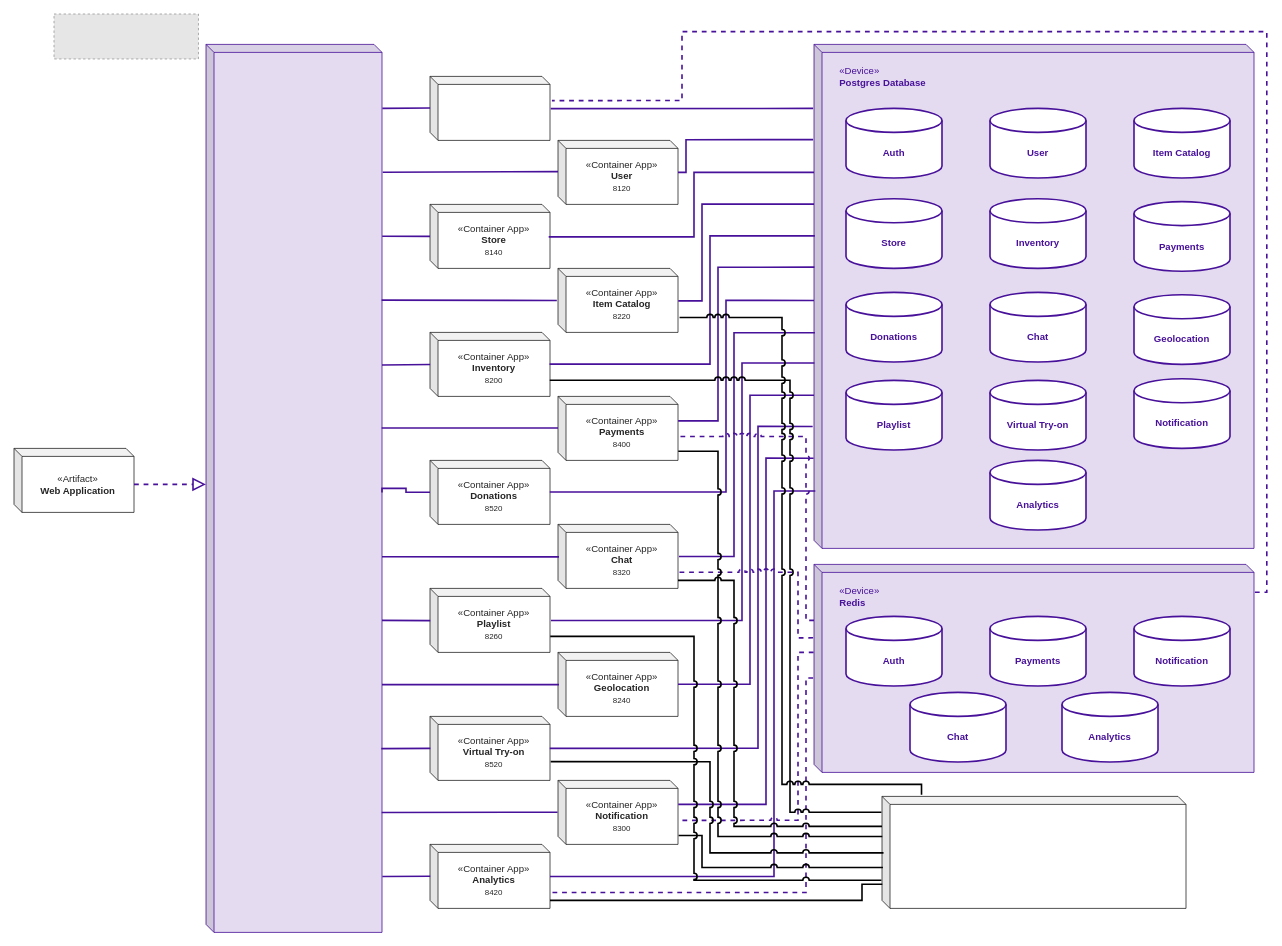
Some shapes in this 1282 by 946 pixel diagram are drawn without their labels. Grey dashed boxes stand in for pictures. The shapes that lost their labels are listed below. From the top down, each one's centre as x and y in pixels, then its label:
At (489,108): "«Container App» Auth 8100".
At (293,488): "«Container Aps» API Gateway 8080".
At (1033,852): "«Device» RabbitMQAdapter".
